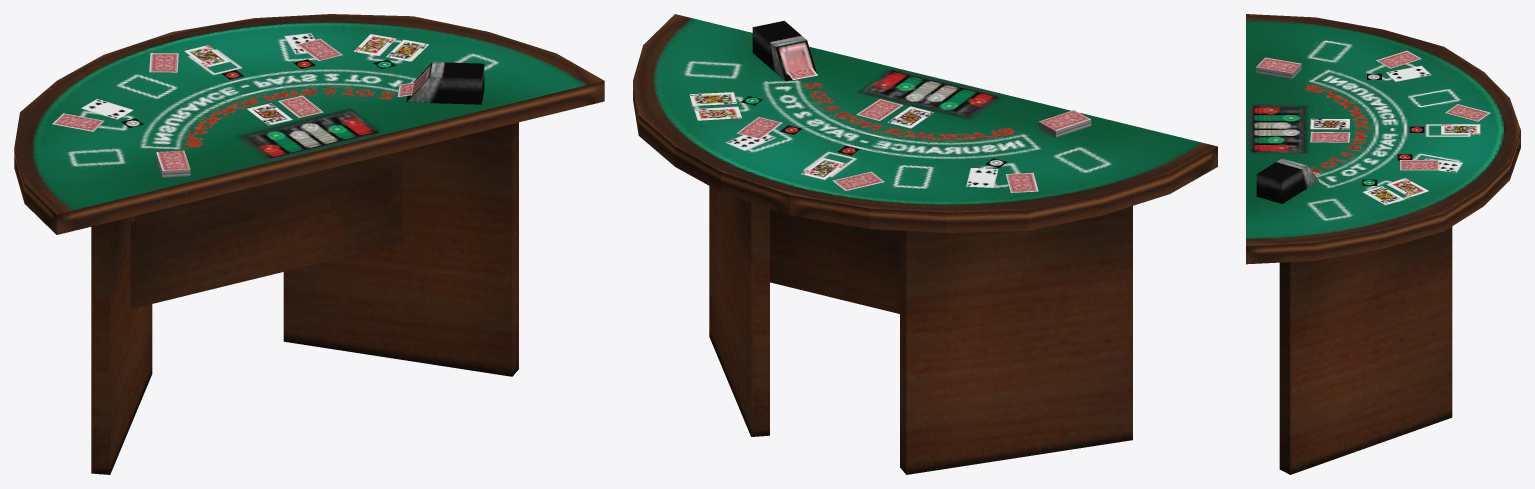
The model's file is blackjack1.fbx.
3 renders of one model, left to right at view 1: azimuth 30°, elevation 25°; view 2: azimuth 150°, elevation 25°; view 3: azimuth 270°, elevation 25°, orthographic. The views are drawn at different scales.
Visible parts, largest first — view 1: mesh_0; view 2: mesh_0; view 3: mesh_0.
Part boxes in pixels (x1,y1,x2,y2): mesh_0: (14, 14, 604, 474); mesh_0: (633, 14, 1217, 474); mesh_0: (1246, 14, 1520, 474).
Bounding box in the file's own units: 196 × 109 × 98.05.
1 material, 1 textured.
